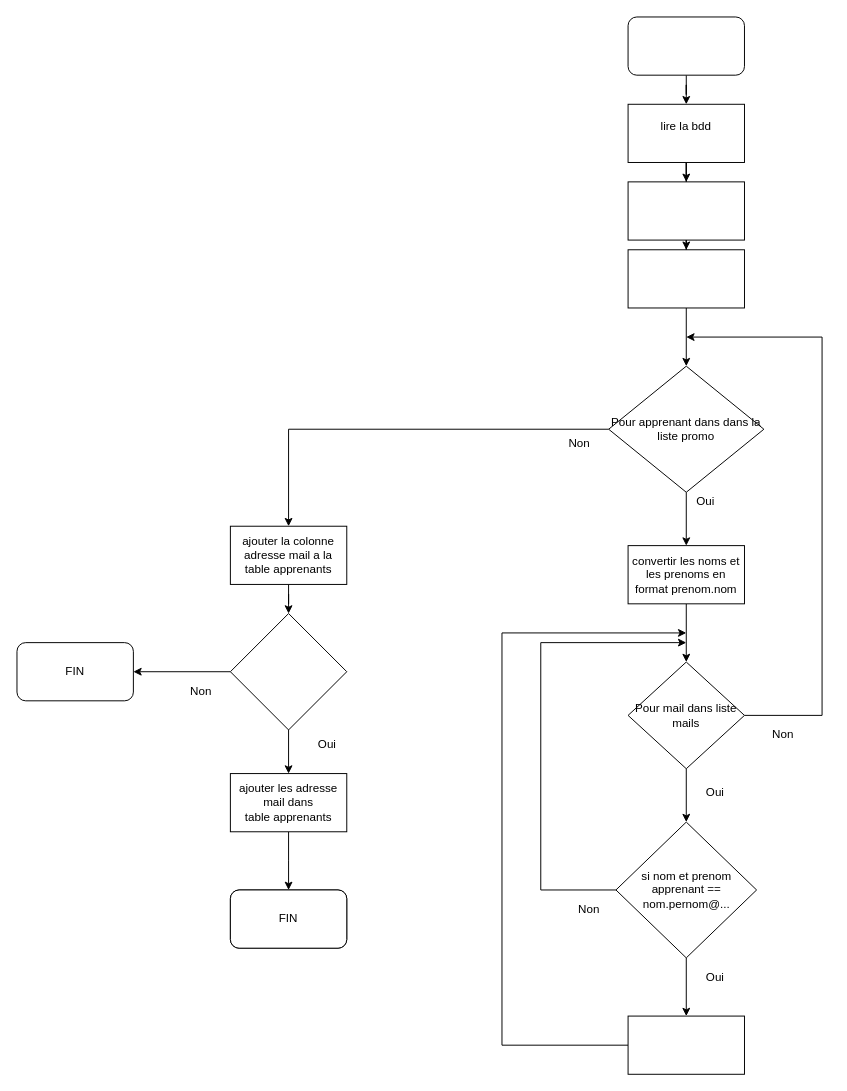
Image size: 847x1091. Some labels were removed from this diagram. The shapes that lost their labels are listed below. From the top down, each one's centre as x and y in pixels, then its label:
At point 685,45: "DEBUT".
At point 685,210: "récupèrer la liste des apprenants et l'ajouter dans la classe apprenants".
At point 685,278: "ouvrir et lire le fichier txt".
At point 288,671: "Pour classe apprenants dans la liste promo".
At point 685,1044: "Ajouter le mail dans classe apprenant".
